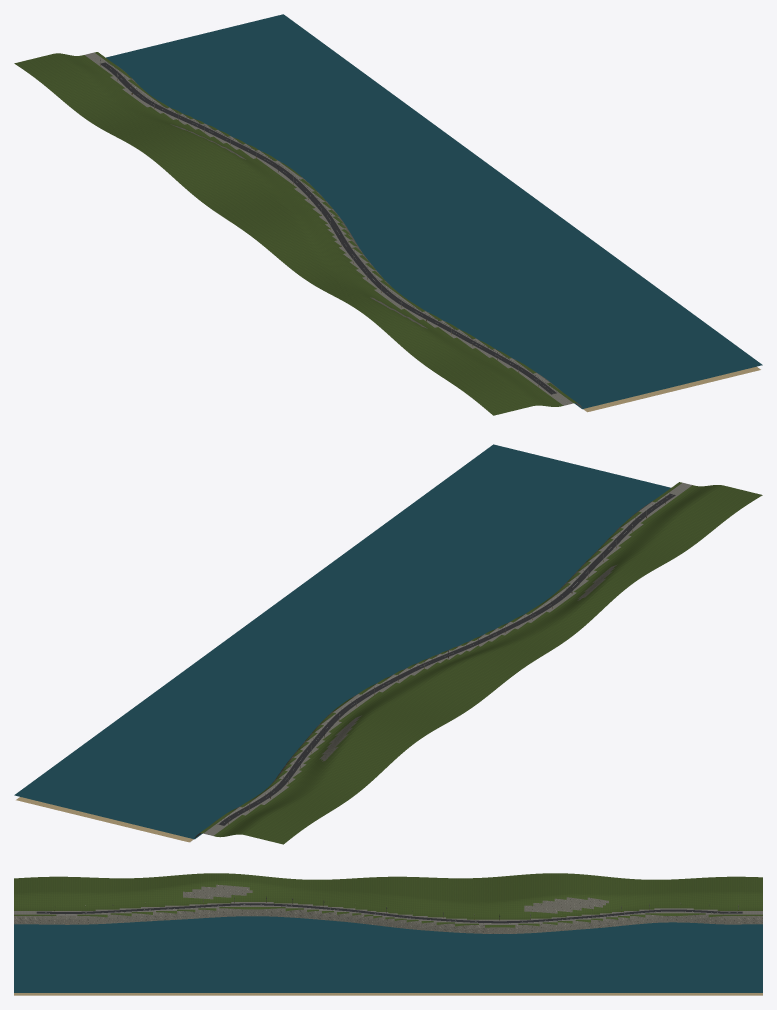
Rendered from coast.glb.
3 views of the same model, one above another, from view 1: azimuth 30°, elevation 25°; view 2: azimuth 150°, elevation 25°; view 3: azimuth 270°, elevation 25° (orthographic). The views are drawn at different scales.
Parts seen in each view (by area): view 1: coast; view 2: coast; view 3: coast.
Boxes of the visible parts, x1,y1,x2,y2 form: coast: [14, 14, 762, 415]; coast: [14, 444, 762, 844]; coast: [14, 873, 762, 995].
Bounding box in the file's own units: 322 × 29.82 × 992.
14 materials, 14 textured.
